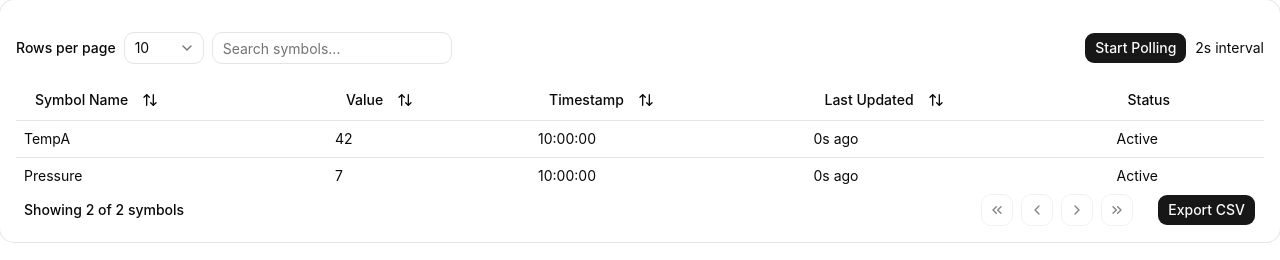
Test: SymbolsDashboard › should filter symbols by search term
In the field with placeholder "Search symbols...": (332, 48) [212,32,452,64], type "Temp"
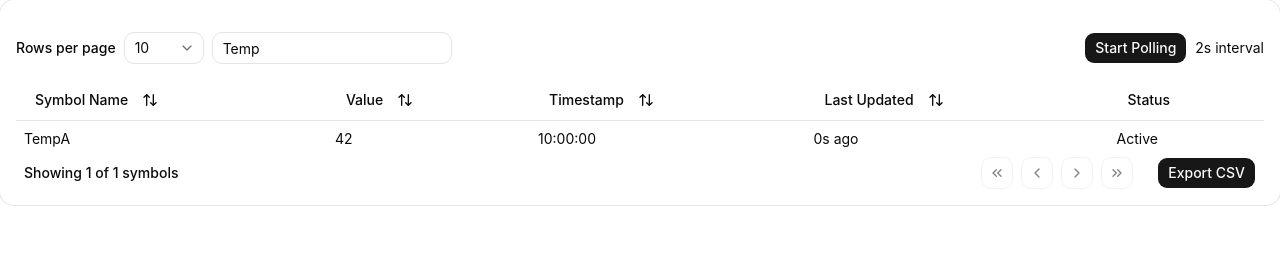
Expected: the text "TempA" is shown, [16,120,327,156]
Now the text "Pressure" is gone
